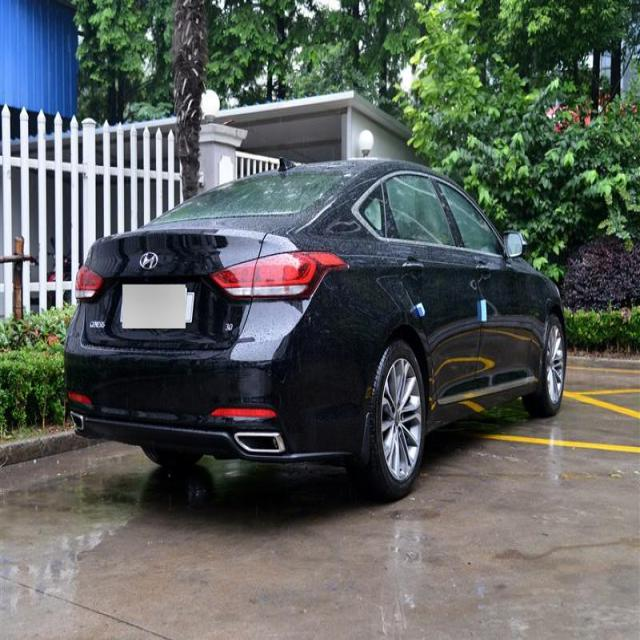back_glass: (146, 164, 352, 227)
back_left_side_light: (70, 262, 104, 306)
back_right_side_light: (211, 248, 351, 298)
door: (382, 164, 482, 390)
front_right_side_door: (435, 173, 534, 402)
front_right_side_mirror: (502, 226, 528, 262)
rear_bumper: (62, 308, 364, 464)
wheel: (356, 344, 423, 500), (524, 318, 566, 419)
